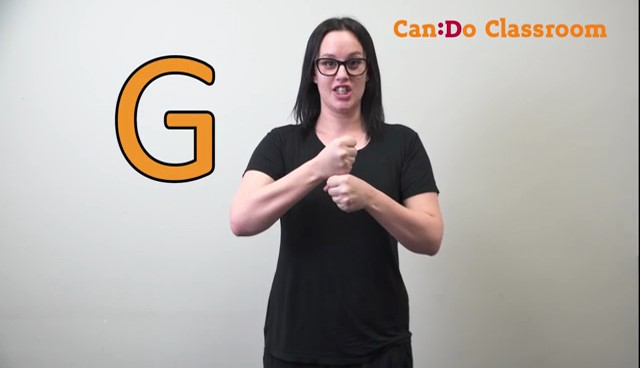G: (307, 130, 388, 219)
